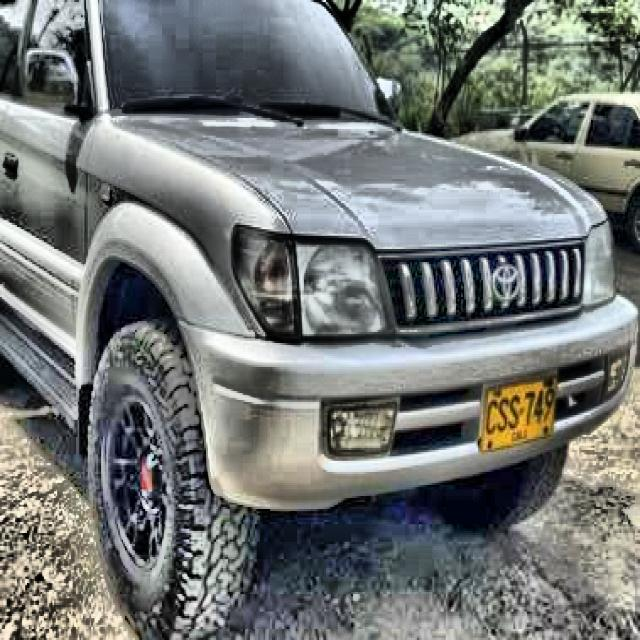plate: (482, 375, 556, 451)
